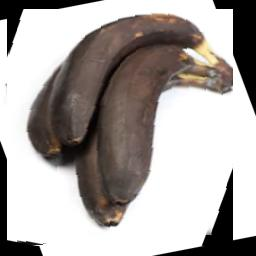Banana Rotten: (8, 9, 234, 246)
